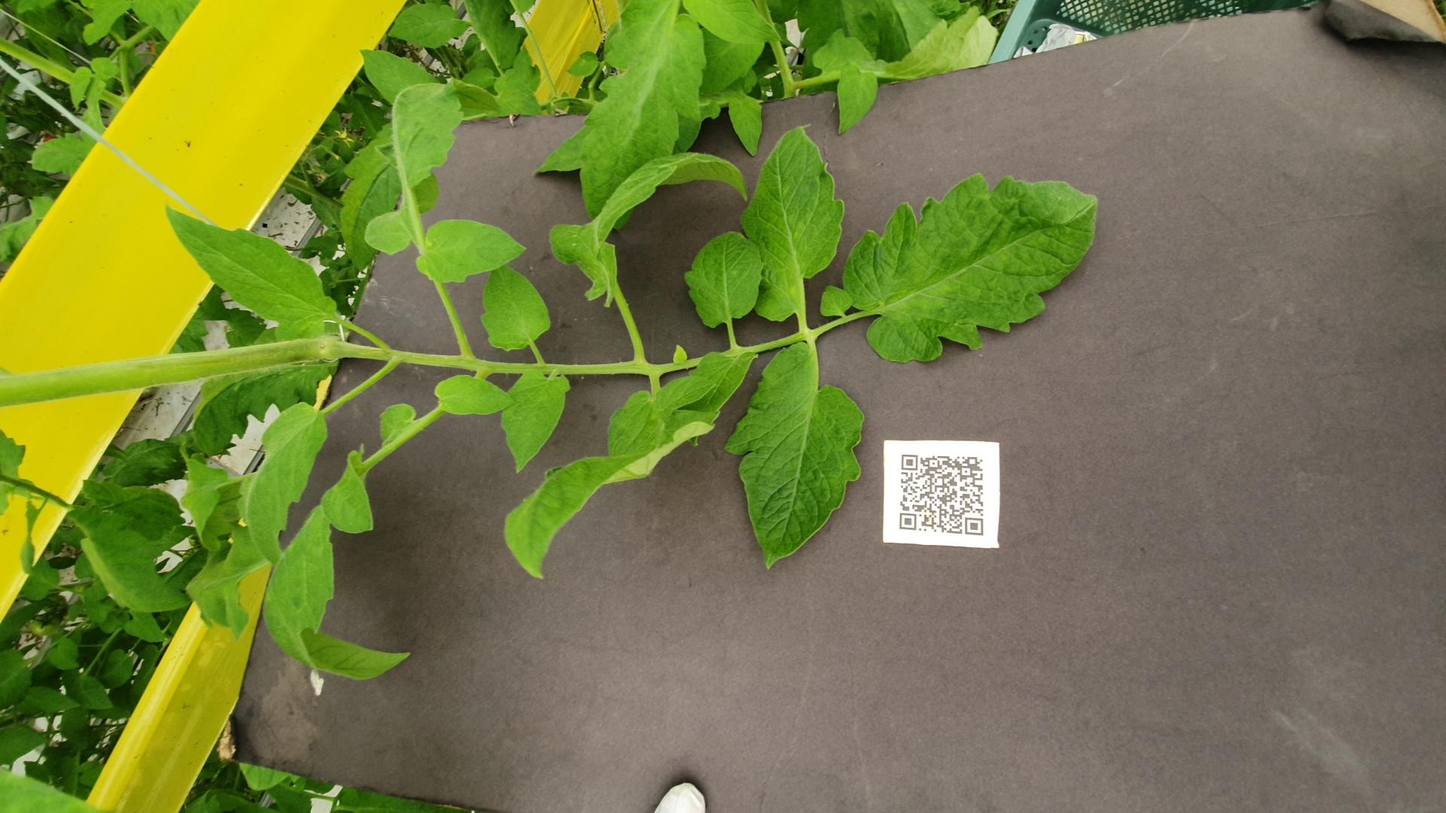Healthy: (798, 472, 1142, 619), (415, 281, 778, 405), (232, 147, 648, 233), (429, 405, 838, 486), (896, 308, 1177, 421), (1051, 325, 1446, 396), (848, 93, 1084, 198), (876, 415, 1226, 476), (447, 133, 731, 185), (639, 106, 801, 188), (598, 280, 795, 322), (939, 234, 1063, 297), (865, 384, 1036, 429), (821, 268, 972, 310), (1256, 201, 1359, 247), (1366, 382, 1446, 439), (1362, 216, 1443, 263), (704, 243, 782, 291), (1161, 409, 1275, 429)
